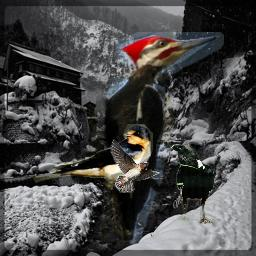Crow: (170, 144, 214, 224)
Swallow: (32, 124, 153, 187), (110, 139, 162, 193)
Woodpecker: (89, 32, 224, 244)
